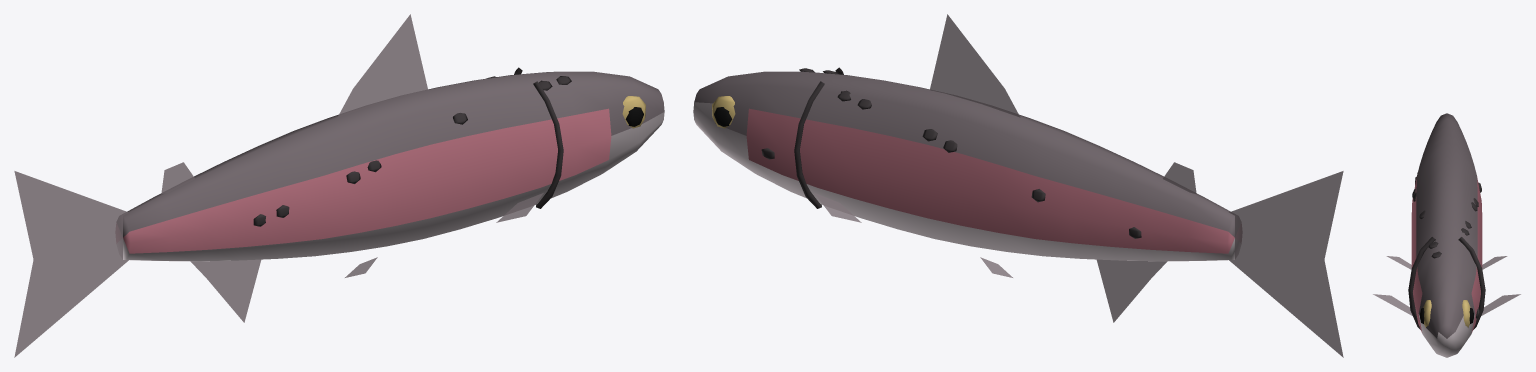
Rendered from lake-raduzhnaya-shallows-0.glb.
The picture shows the model from 3 angles, left to right: view 1: azimuth 30°, elevation 25°; view 2: azimuth 150°, elevation 25°; view 3: azimuth 270°, elevation 25°; orthographic projection. The views are drawn at different scales.
Visible parts, largest first — view 1: lake-raduzhnaya-shallows-0; view 2: lake-raduzhnaya-shallows-0; view 3: lake-raduzhnaya-shallows-0.
Part boxes in pixels (x1,y1,x2,y2): lake-raduzhnaya-shallows-0: [14, 14, 664, 357]; lake-raduzhnaya-shallows-0: [693, 14, 1343, 357]; lake-raduzhnaya-shallows-0: [1373, 113, 1520, 357].
Bounding box in the file's own units: 0.504 × 0.2008 × 0.127.
